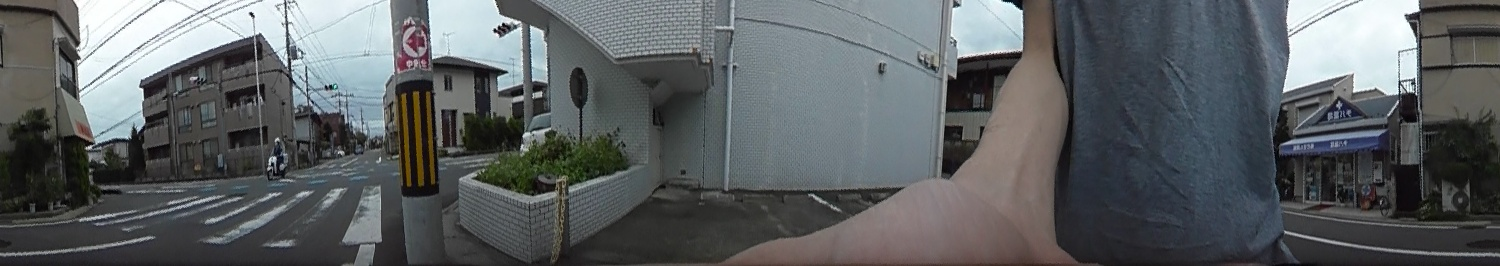person: (267, 135, 284, 171)
